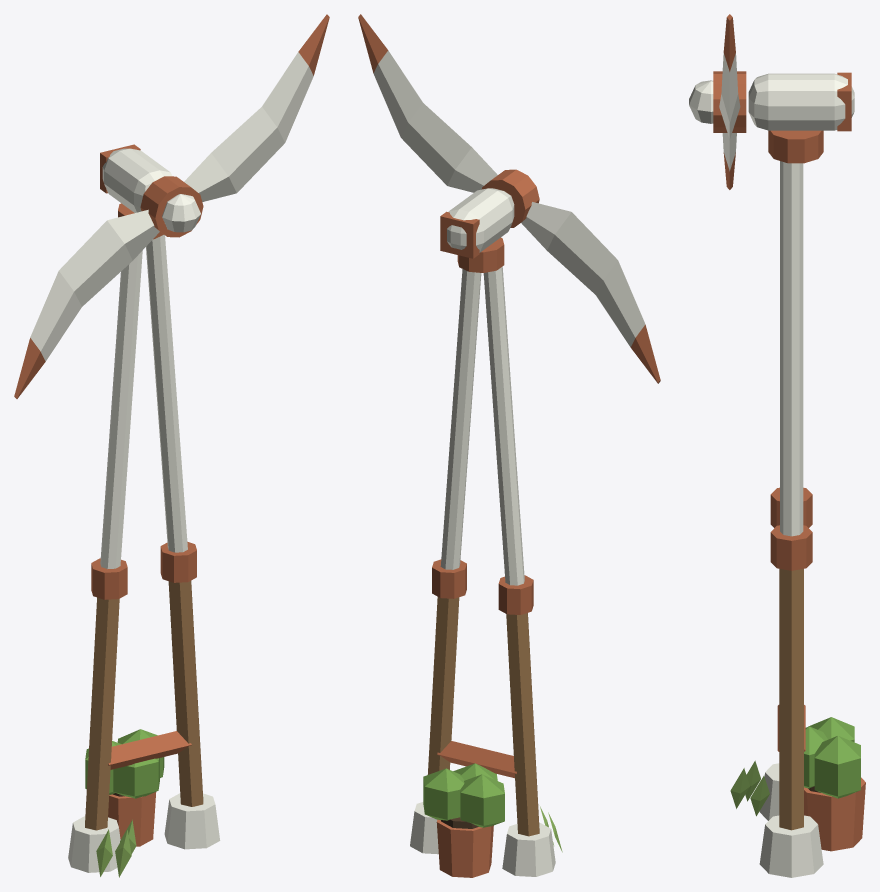
The model's file is wind_turbine_zephyr.glb.
The picture shows the model from 3 angles, left to right: view 1: azimuth 30°, elevation 25°; view 2: azimuth 150°, elevation 25°; view 3: azimuth 270°, elevation 25°; orthographic projection. The views are drawn at different scales.
Visible parts, largest first — view 1: move_spin_rotor, Ceramic_wishbone_upper.001, Ceramic_wishbone_upper, Timber_wishbone_lower, Timber_wishbone_lower.001, Crafted_nacelle, Ceramic_anchor_shoe.001, Ceramic_anchor_shoe, decor_Terracotta_planter, Wishbone_low_crossbrace, decor_Living_leaves.002, Copper_wishbone_joint (+1 smaller); view 2: move_spin_rotor, Ceramic_wishbone_upper, Ceramic_wishbone_upper.001, Timber_wishbone_lower, Timber_wishbone_lower.001, Crafted_nacelle, decor_Terracotta_planter, Ceramic_anchor_shoe, decor_Living_leaves, decor_Living_leaves.001, Wishbone_low_crossbrace, Copper_wishbone_joint (+4 smaller); view 3: Ceramic_wishbone_upper.001, Timber_wishbone_lower.001, Crafted_nacelle, move_spin_rotor, Ceramic_anchor_shoe.001, decor_Terracotta_planter, decor_Living_leaves.001, Copper_yaw_bearing, Copper_wishbone_joint.001, decor_Living_leaves.002, Ceramic_anchor_shoe, Copper_wishbone_joint (+4 smaller).
Part boxes in pixels (bbox=[...]): move_spin_rotor: bbox=[14, 14, 329, 398]; Ceramic_wishbone_upper.001: bbox=[146, 235, 187, 552]; Ceramic_wishbone_upper: bbox=[100, 251, 142, 568]; Timber_wishbone_lower: bbox=[85, 597, 119, 830]; Timber_wishbone_lower.001: bbox=[168, 581, 203, 806]; Crafted_nacelle: bbox=[102, 148, 172, 212]; Ceramic_anchor_shoe.001: bbox=[164, 793, 220, 849]; Ceramic_anchor_shoe: bbox=[68, 816, 120, 872]; decor_Terracotta_planter: bbox=[108, 792, 156, 846]; Wishbone_low_crossbrace: bbox=[108, 731, 191, 769]; decor_Living_leaves.002: bbox=[113, 758, 159, 798]; Copper_wishbone_joint: bbox=[91, 558, 127, 599]; move_spin_rotor: bbox=[358, 14, 660, 383]; Ceramic_wishbone_upper: bbox=[483, 266, 524, 585]; Ceramic_wishbone_upper.001: bbox=[440, 269, 481, 569]; Timber_wishbone_lower: bbox=[506, 613, 539, 836]; Timber_wishbone_lower.001: bbox=[427, 597, 459, 774]; Crafted_nacelle: bbox=[447, 188, 514, 252]; decor_Terracotta_planter: bbox=[436, 819, 493, 877]; Ceramic_anchor_shoe: bbox=[502, 823, 555, 876]; decor_Living_leaves: bbox=[460, 774, 504, 827]; decor_Living_leaves.001: bbox=[423, 768, 464, 820]; Wishbone_low_crossbrace: bbox=[437, 741, 516, 778]; Copper_wishbone_joint: bbox=[498, 575, 533, 614]; Ceramic_wishbone_upper.001: bbox=[780, 161, 803, 536]; Timber_wishbone_lower.001: bbox=[779, 569, 803, 830]; Crafted_nacelle: bbox=[748, 73, 854, 130]; move_spin_rotor: bbox=[689, 14, 746, 189]; Ceramic_anchor_shoe.001: bbox=[759, 815, 823, 877]; decor_Terracotta_planter: bbox=[804, 777, 865, 851]; decor_Living_leaves.001: bbox=[814, 736, 860, 798]; Copper_yaw_bearing: bbox=[768, 130, 823, 163]; Copper_wishbone_joint.001: bbox=[770, 525, 812, 570]; decor_Living_leaves.002: bbox=[804, 726, 827, 788]; Ceramic_anchor_shoe: bbox=[759, 763, 779, 820]; Copper_wishbone_joint: bbox=[770, 487, 812, 527].
Size of the model in its own units: 1.83 by 4.54 by 0.8017.
